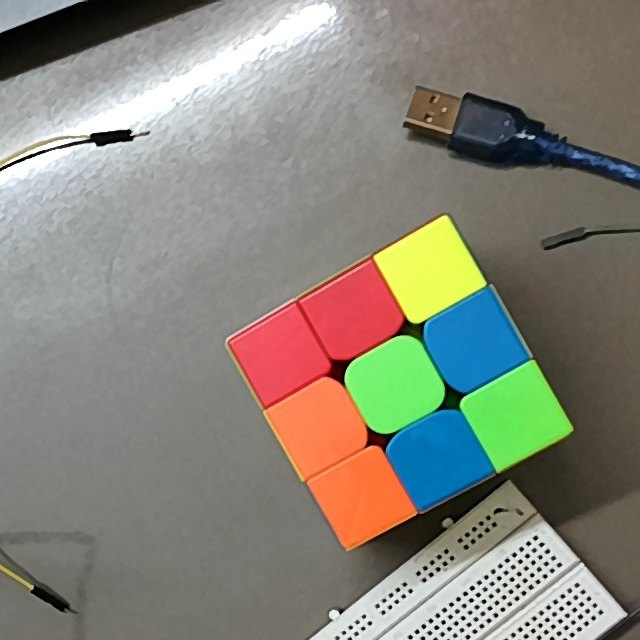tile: (447, 313, 506, 371), (489, 389, 546, 446), (370, 355, 426, 413), (411, 429, 469, 484), (339, 466, 393, 524), (402, 244, 458, 297), (297, 396, 349, 453), (331, 286, 384, 338), (261, 329, 308, 384)
